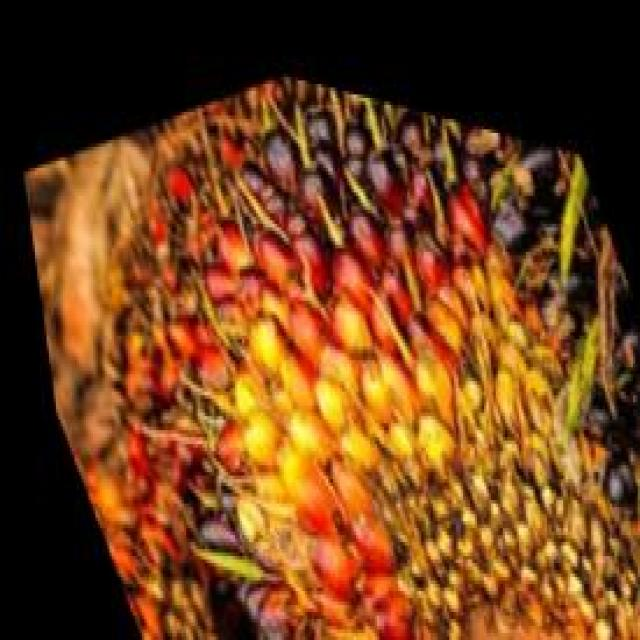Ripefruit: (28, 7, 640, 640)
